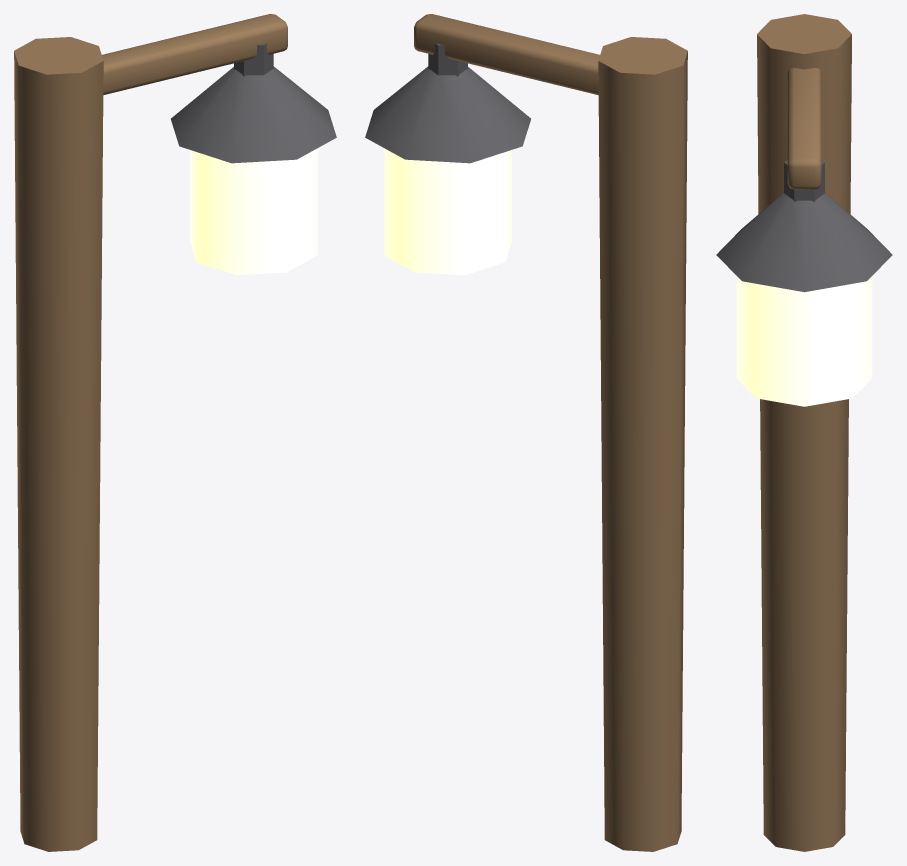
File: lantern.glb
The picture shows the model from 3 angles, left to right: view 1: azimuth 30°, elevation 25°; view 2: azimuth 150°, elevation 25°; view 3: azimuth 270°, elevation 25°; orthographic projection. The views are drawn at different scales.
Size of the model in its own units: 0.54 by 1.3 by 0.26.
